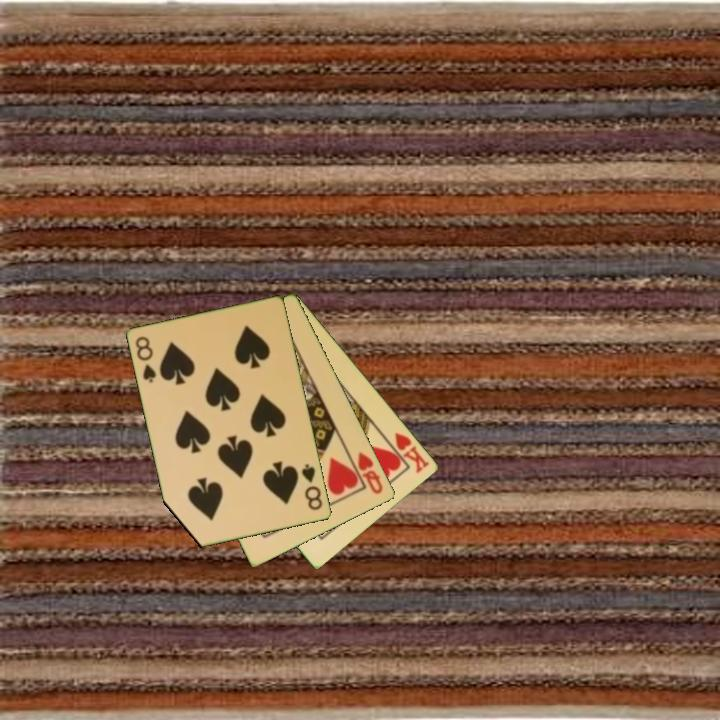8s: (132, 333, 160, 386), (298, 460, 325, 513)
Kh: (382, 429, 433, 476)
Qh: (347, 448, 386, 497)
